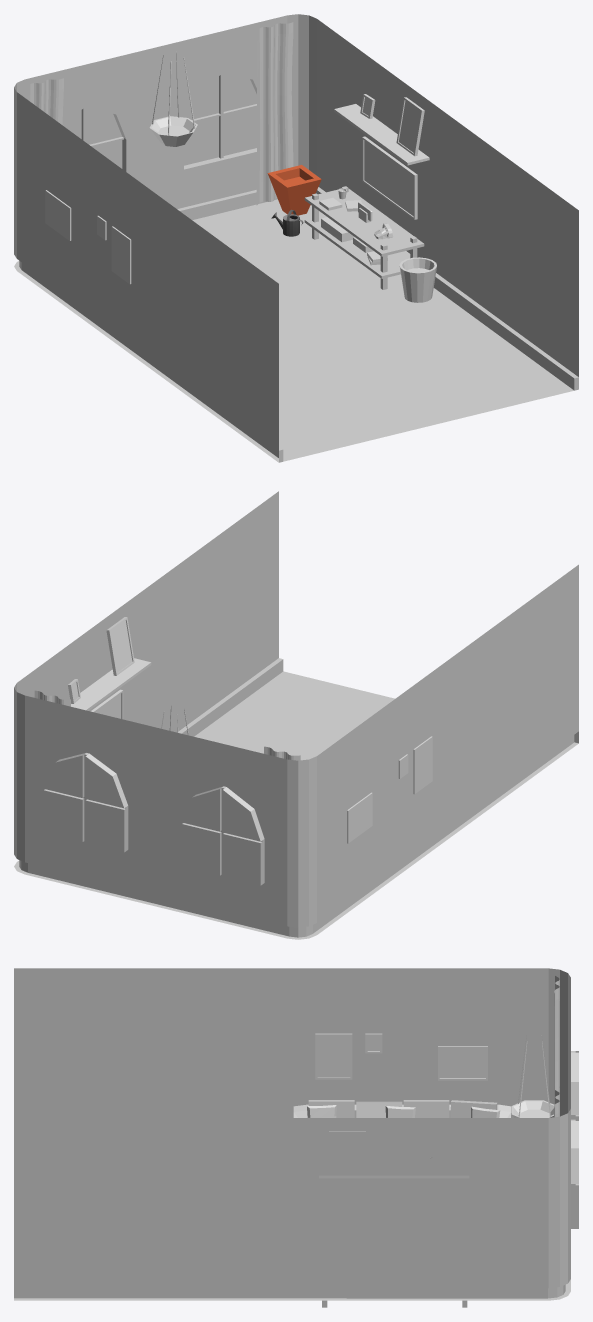
The model's file is prantinhas.dae.
3 views of the same model, one above another, from view 1: azimuth 30°, elevation 25°; view 2: azimuth 150°, elevation 25°; view 3: azimuth 270°, elevation 25° (orthographic). The views are drawn at different scales.
Visible parts, largest first — view 1: Cube.002, Plane.003, Cube.003, Cube.004, Cube, Cube.005, Cylinder.006, Cylinder.007, Plane.002, Cube.010, Cube.007, Cube.009; view 2: Cube.002, Cube.005, Cube.010, Cube.007, Cube.009; view 3: Cube.002, Cube.006, Cube.007, Cube.009, Cylinder.006, Plane.002, Cube.005.
Boxes of the visible parts, box(x1,y1,x2,y2) form: Cube.002: box(14, 14, 578, 462); Plane.003: box(256, 22, 293, 205); Cube.003: box(304, 186, 424, 289); Cube.004: box(362, 136, 417, 219); Cube: box(267, 165, 321, 215); Cube.005: box(334, 104, 429, 165); Cylinder.006: box(149, 51, 197, 146); Cylinder.007: box(399, 257, 436, 302); Plane.002: box(27, 78, 63, 124); Cube.010: box(396, 97, 424, 156); Cube.007: box(111, 226, 131, 284); Cube.009: box(45, 190, 71, 240); Cube.002: box(14, 491, 578, 939); Cube.005: box(71, 658, 151, 710); Cube.010: box(106, 617, 134, 675); Cube.007: box(413, 736, 432, 794); Cube.009: box(347, 792, 372, 843); Cube.002: box(14, 968, 578, 1300); Cube.006: box(293, 1100, 510, 1117); Cube.007: box(315, 1033, 352, 1079); Cube.009: box(438, 1046, 487, 1080); Cylinder.006: box(511, 1035, 554, 1117); Plane.002: box(554, 976, 559, 1116); Cube.005: box(319, 1175, 469, 1178).
Size of the model in its own units: 14.22 by 22.58 by 8.81.
3 materials, 1 textured.
